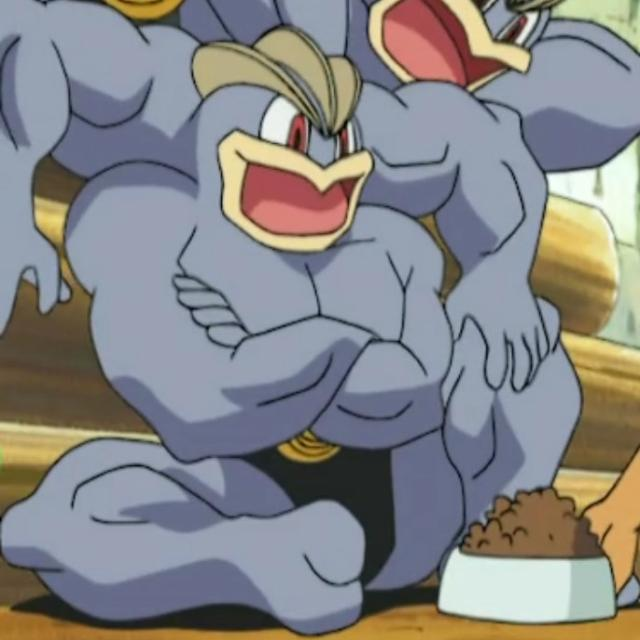Machamp: (61, 60, 464, 610)
